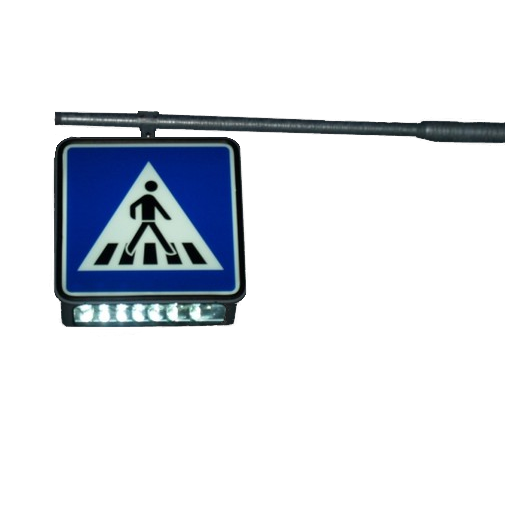pedestrian: (59, 143, 235, 320)
